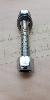FinishedAssembly: (14, 8, 36, 75)
